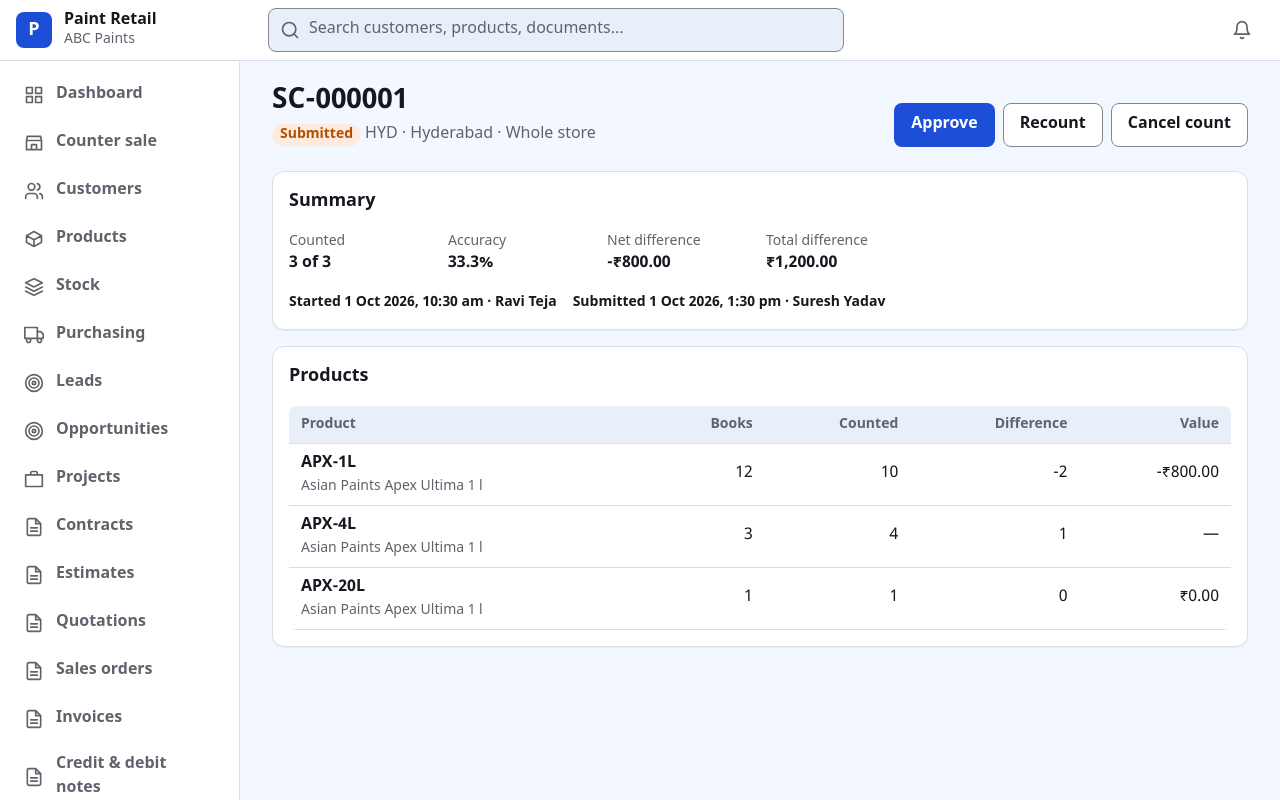
StockCountDetailPage › shows the differences and approves them with reasons
The image size is (1280, 800).
Expected: the table named "Products" is shown, [289, 406, 1231, 630]
Expected: the text "33.3%" is shown, [448, 253, 493, 274]
Step 1. Click the button with aria-label "Approve SC-000001" → (944,125), box [894, 103, 995, 147]
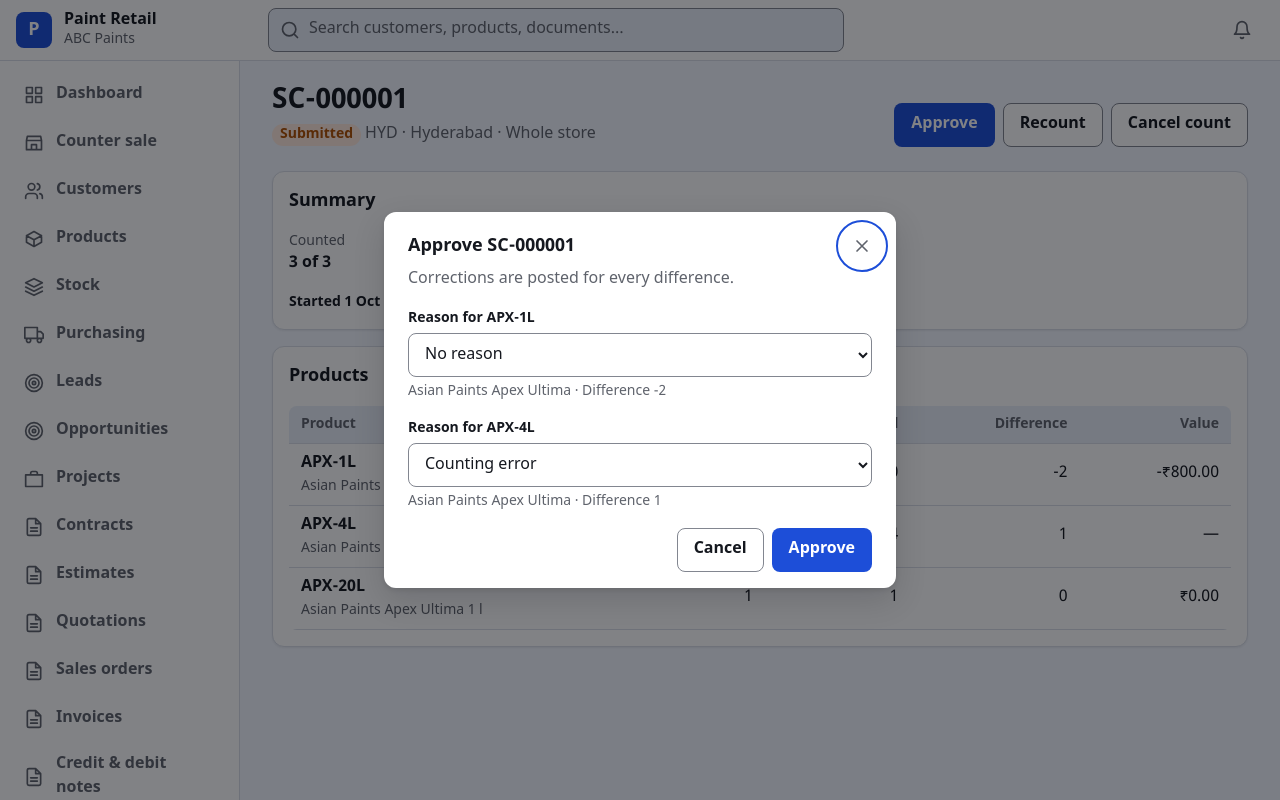
Result: the dropdown labelled "Reason for APX-4L" shows "Counting error" at [408, 443, 872, 487]
Step 2. Select "Theft" in the dropdown labelled "Reason for APX-1L" → (640,355), box [408, 333, 872, 377]
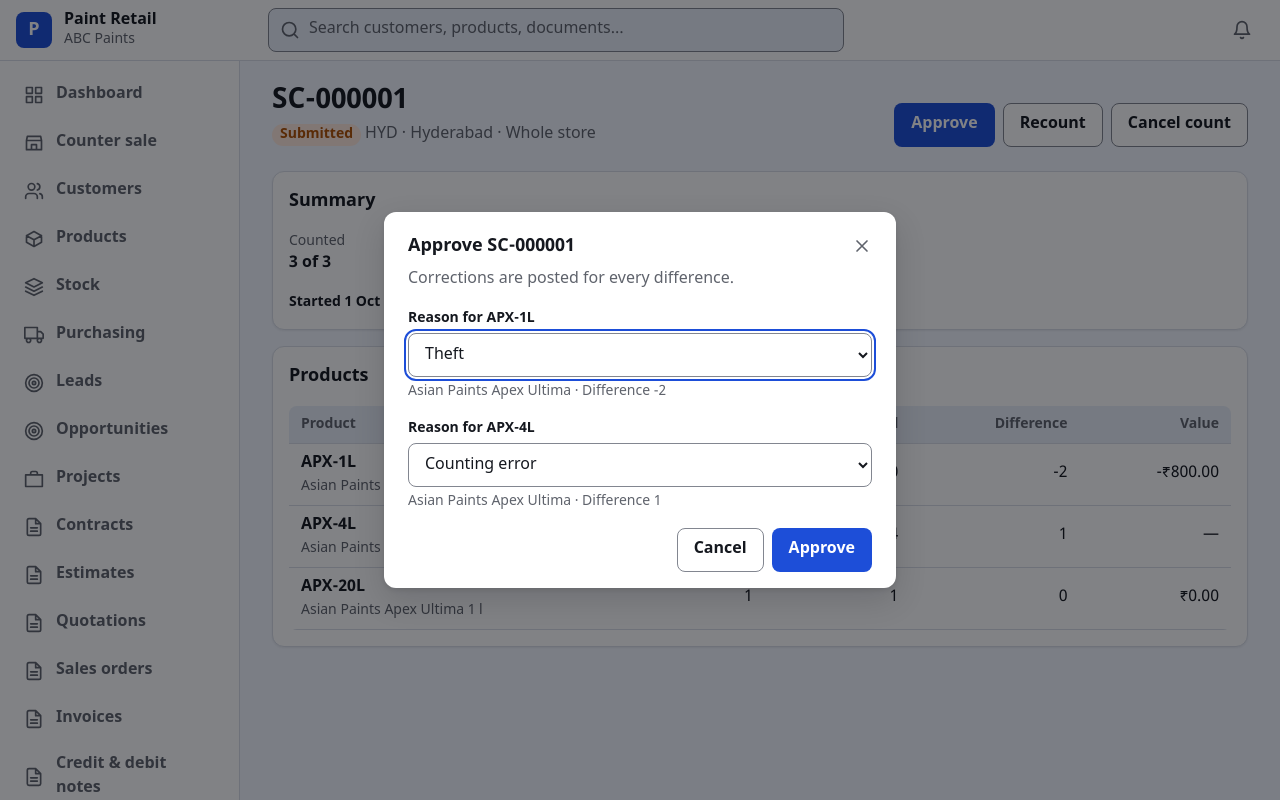
Step 3. Click the button "Approve" → (822,550), box [772, 528, 872, 572]
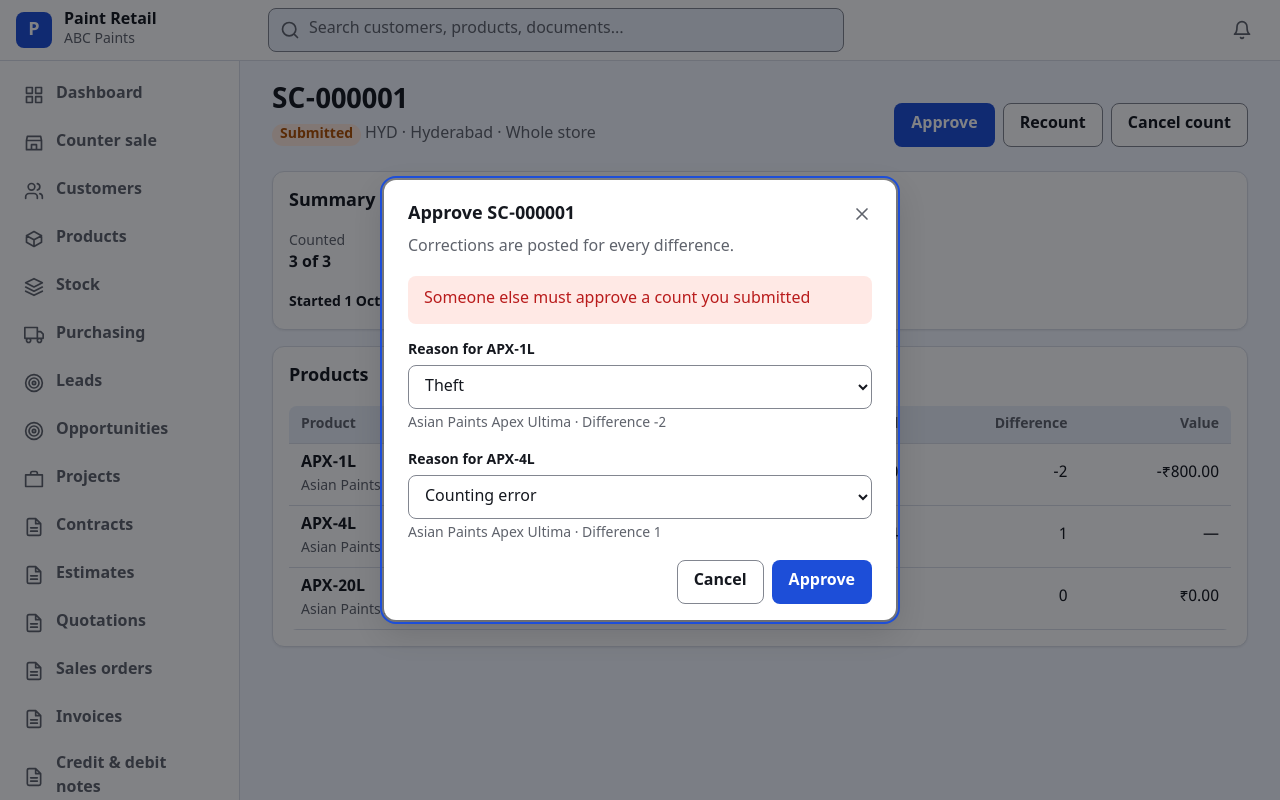
Result: the text "Someone else must approve a count you submitted" is shown at [424, 288, 810, 312]
Step 4. Select "No reason" in the dropdown labelled "Reason for APX-4L" → (640,497), box [408, 475, 872, 519]
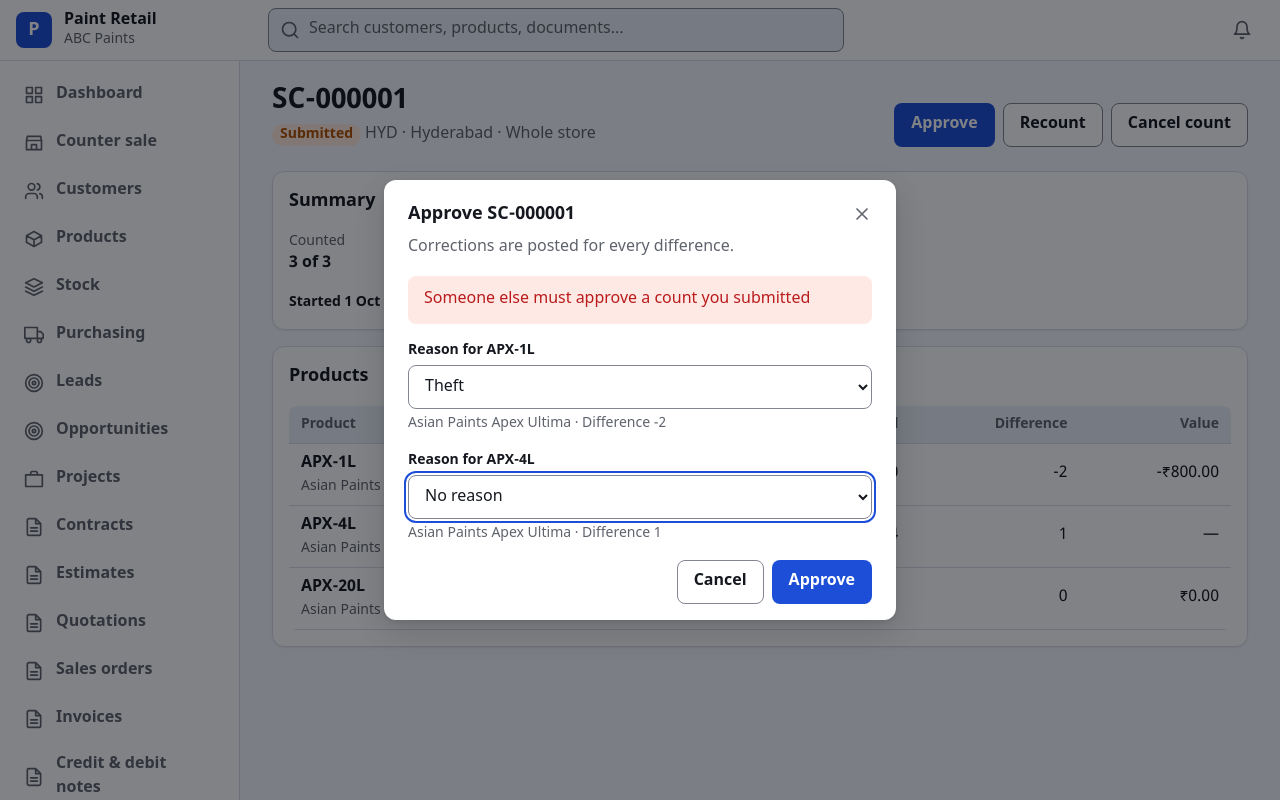
Step 5. Click the button "Approve" → (822,582), box [772, 560, 872, 604]
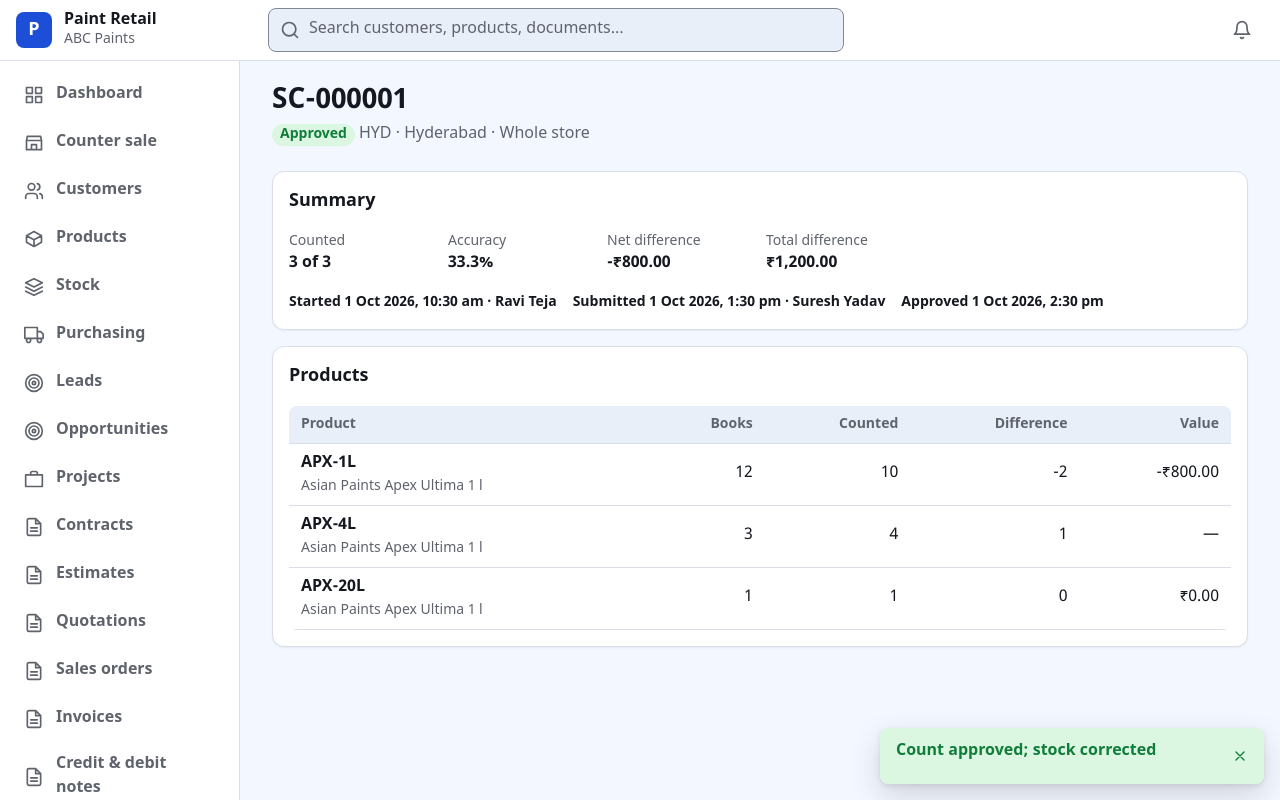
Result: the text "Count approved; stock corrected" is shown at [896, 741, 1156, 762]
Result: the heading "Approve SC-000001" is gone
